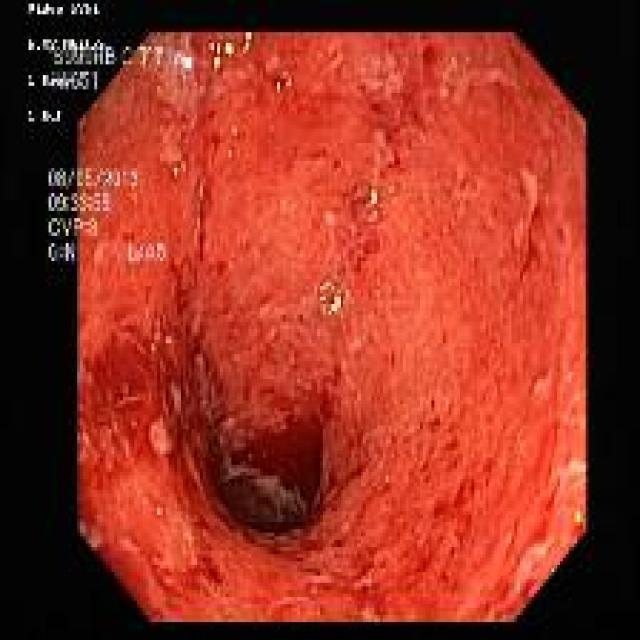ulcerative-colitis: (76, 33, 586, 621)
